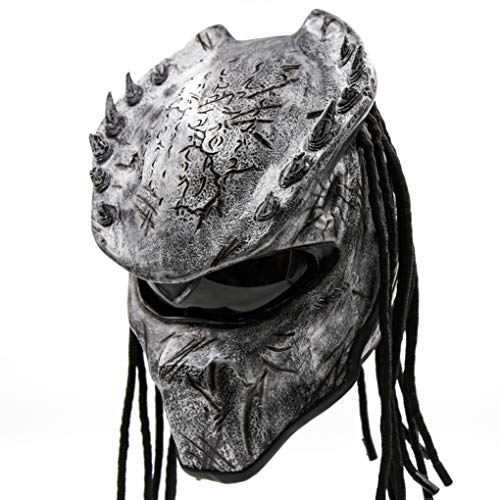with_helmet: (84, 7, 402, 490)
